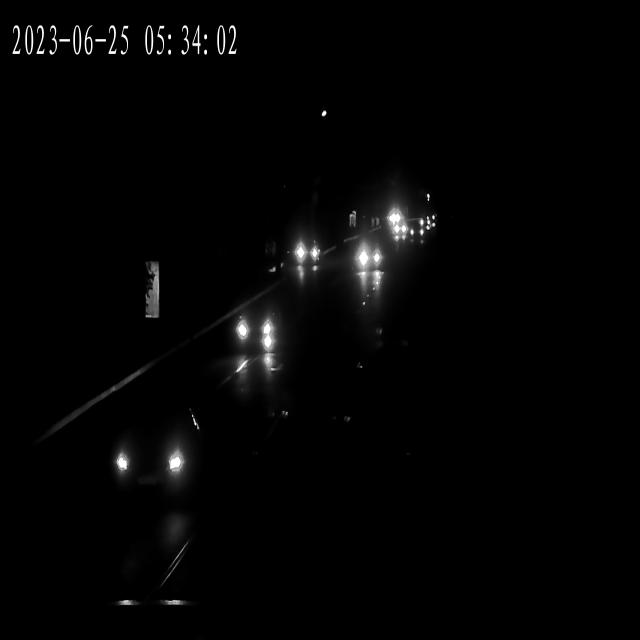Car: (108, 400, 204, 519), (232, 304, 281, 360), (354, 243, 386, 286), (291, 228, 321, 270), (392, 223, 410, 243), (408, 221, 431, 236), (387, 208, 404, 226), (421, 213, 439, 227)
